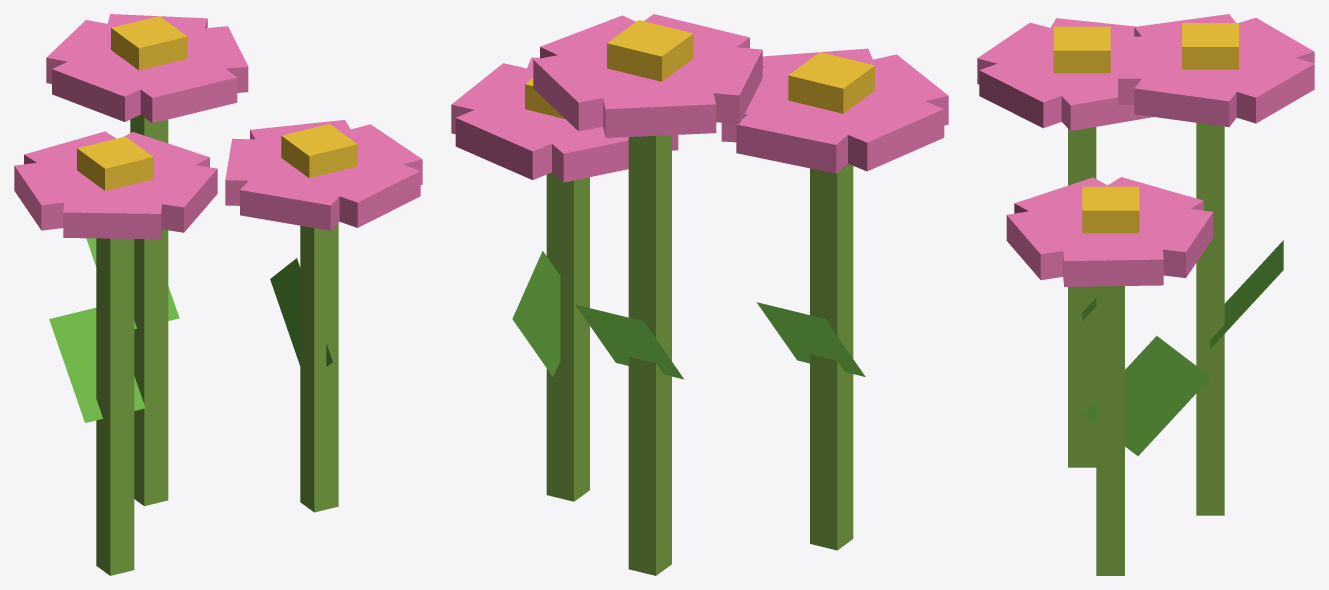
The model's file is flower_pink.obj.
The picture shows the model from 3 angles, left to right: view 1: azimuth 30°, elevation 25°; view 2: azimuth 150°, elevation 25°; view 3: azimuth 270°, elevation 25°; orthographic projection. The views are drawn at different scales.
Visible parts, largest first — view 1: bloom, stem; view 2: stem, bloom; view 3: bloom, stem.
Part boxes in pixels (x1=…): bloom: x1=14, y1=14, x2=422, y2=239; stem: x1=49, y1=115, x2=338, y2=575; stem: x1=512, y1=135, x2=865, y2=575; bloom: x1=451, y1=14, x2=948, y2=182; bloom: x1=977, y1=14, x2=1314, y2=286; stem: x1=1068, y1=122, x2=1283, y2=575.
Bounding box in the file's own units: 0.3177 × 0.3675 × 0.2369.
